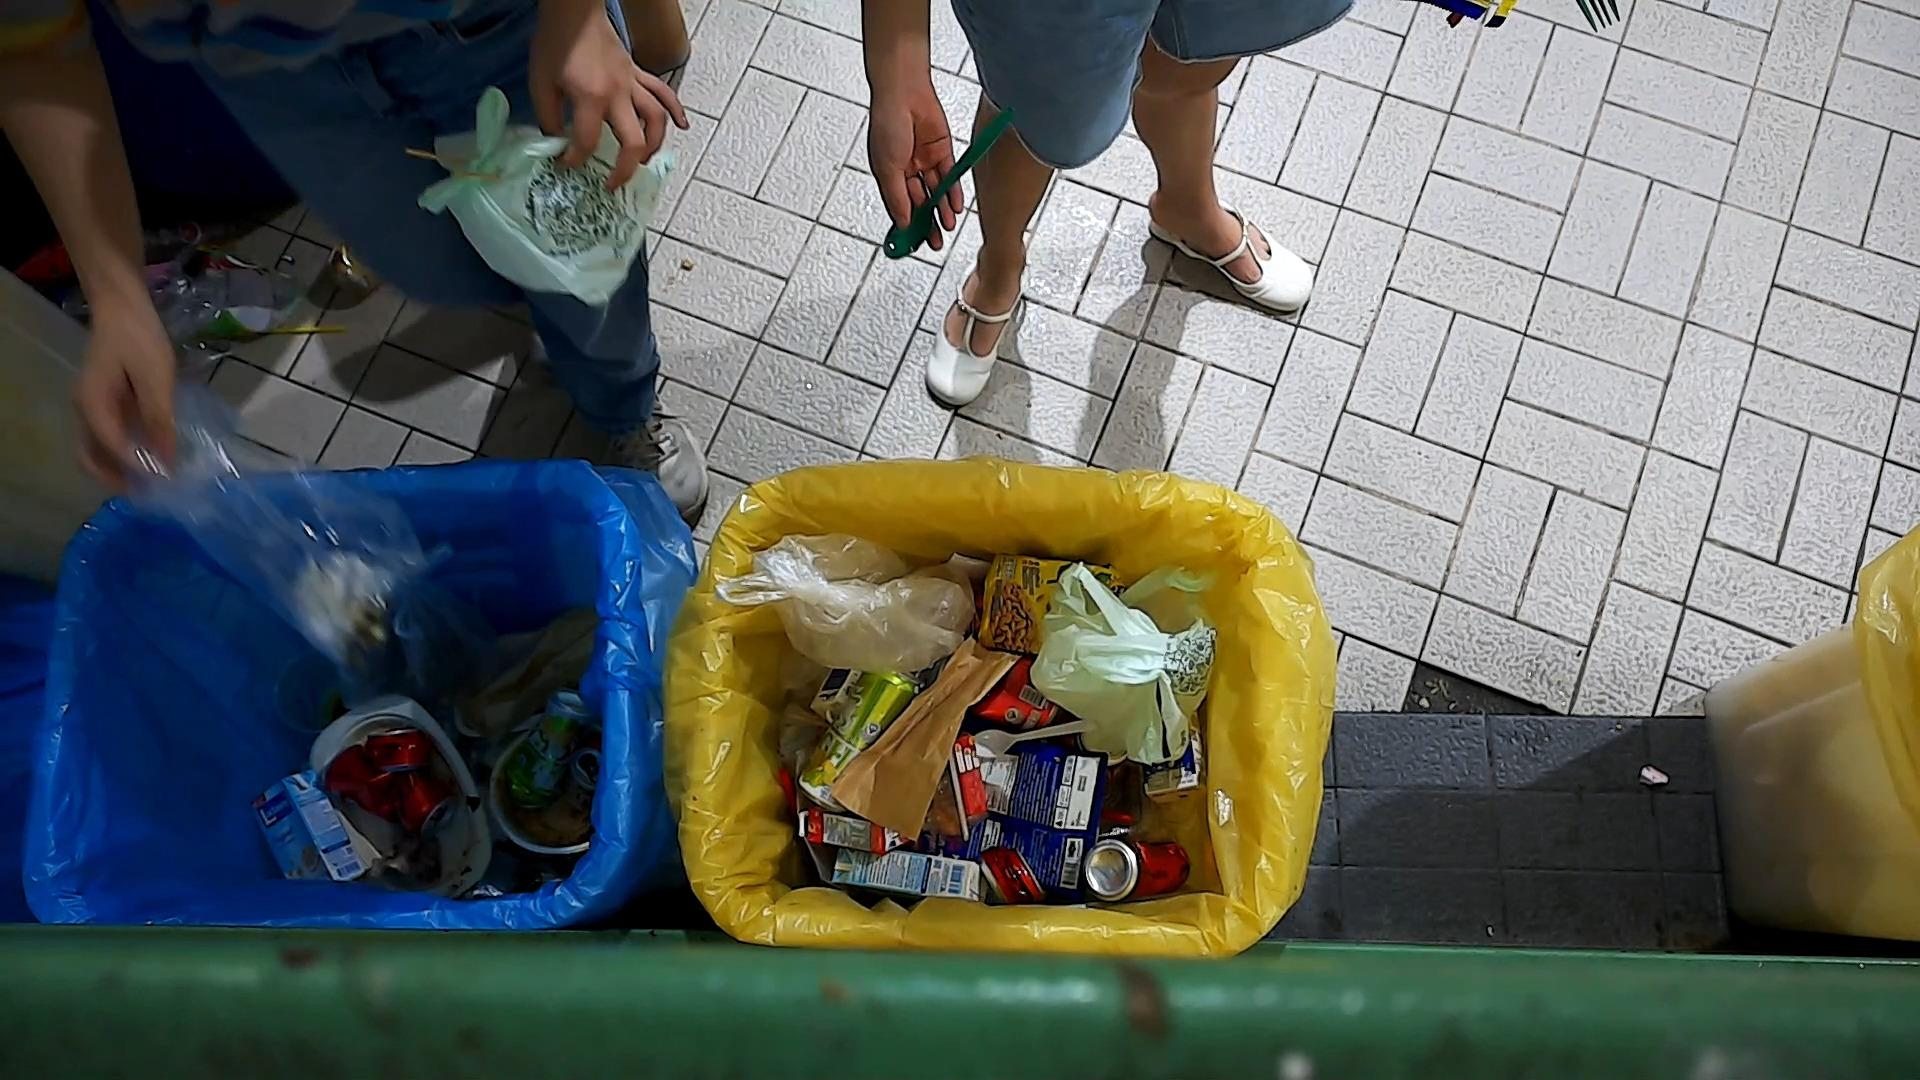can: (794, 667, 922, 811), (336, 733, 462, 847), (509, 684, 593, 812), (1081, 831, 1195, 899), (972, 844, 1048, 905), (363, 719, 430, 781)
dirty food container: (305, 713, 487, 897), (481, 721, 604, 856)
filled plastic bag: (136, 385, 464, 703), (402, 86, 678, 307), (720, 525, 973, 669)
milk carton: (244, 769, 365, 882), (828, 845, 988, 905), (795, 798, 914, 858)
paper bag: (827, 637, 1023, 845), (464, 603, 601, 729)
plastic bag: (1033, 567, 1222, 764)
plastic cutlery: (882, 113, 1010, 261), (969, 719, 1101, 770)
snack packaging: (926, 716, 1108, 909), (973, 551, 1122, 655)
